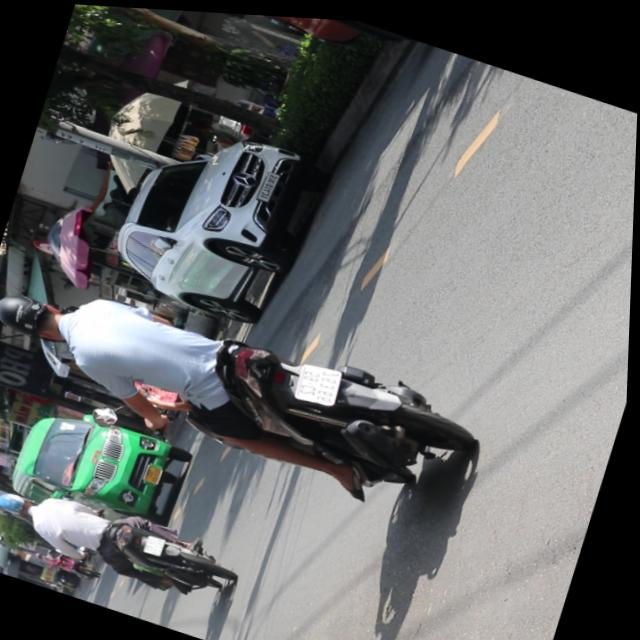helmet: (0, 282, 76, 346), (0, 486, 39, 517)
licenseplate: (0, 246, 493, 526), (0, 467, 247, 608)
nohelmet: (294, 354, 344, 403), (145, 530, 169, 553)
